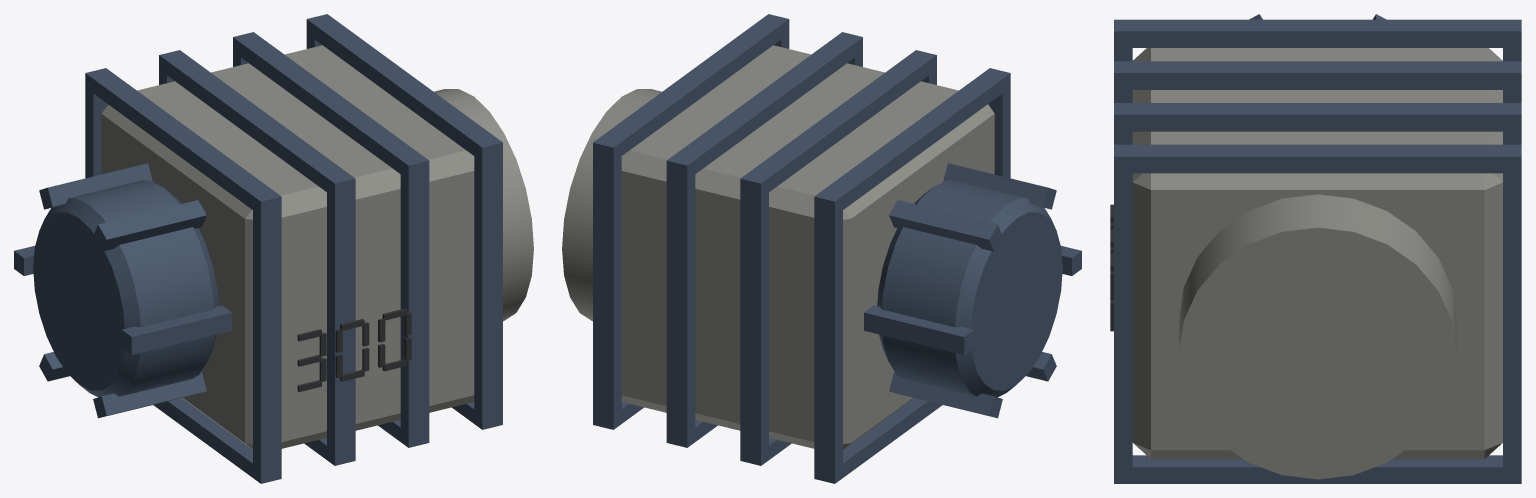
File: ko300_pump.obj
3 renders of one model, left to right at view 1: azimuth 30°, elevation 25°; view 2: azimuth 150°, elevation 25°; view 3: azimuth 270°, elevation 25°, orthographic. The views are drawn at different scales.
Parts seen in each view (by area): view 1: ko300_pump; view 2: ko300_pump; view 3: ko300_pump.
Part boxes in pixels (x1,y1,x2,y2): ko300_pump: (14, 14, 533, 483); ko300_pump: (562, 14, 1081, 483); ko300_pump: (1110, 14, 1521, 483).
Bounding box in the file's own units: 1.16 × 0.78 × 0.888.
